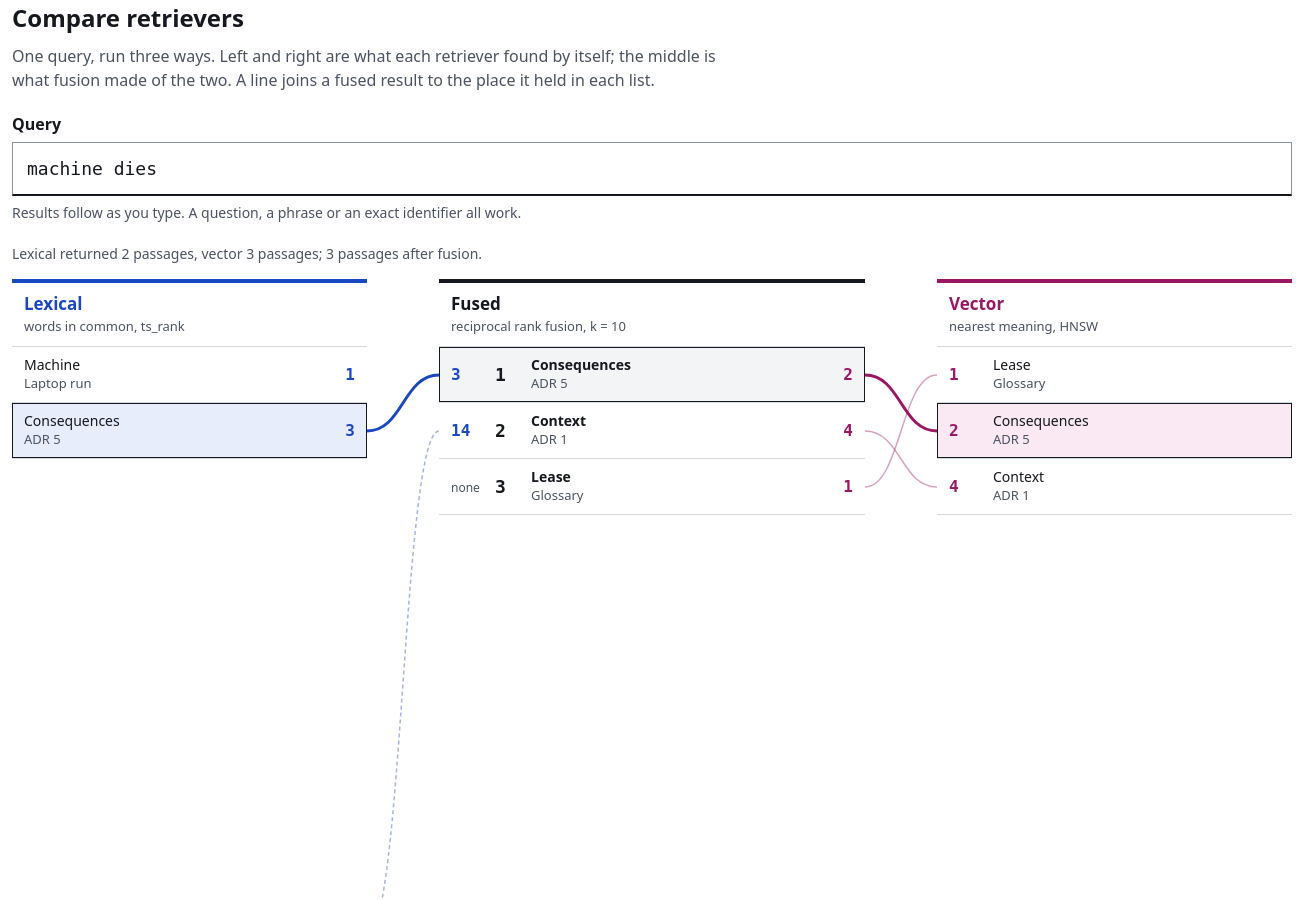
Test case: the comparison view › works the first fused result out, and any other passage when its row is pressed
Click the button "none 1 3 Lease Glossary".
click(551, 477)  # box 439,459 -> 865,514
(page scrolled)
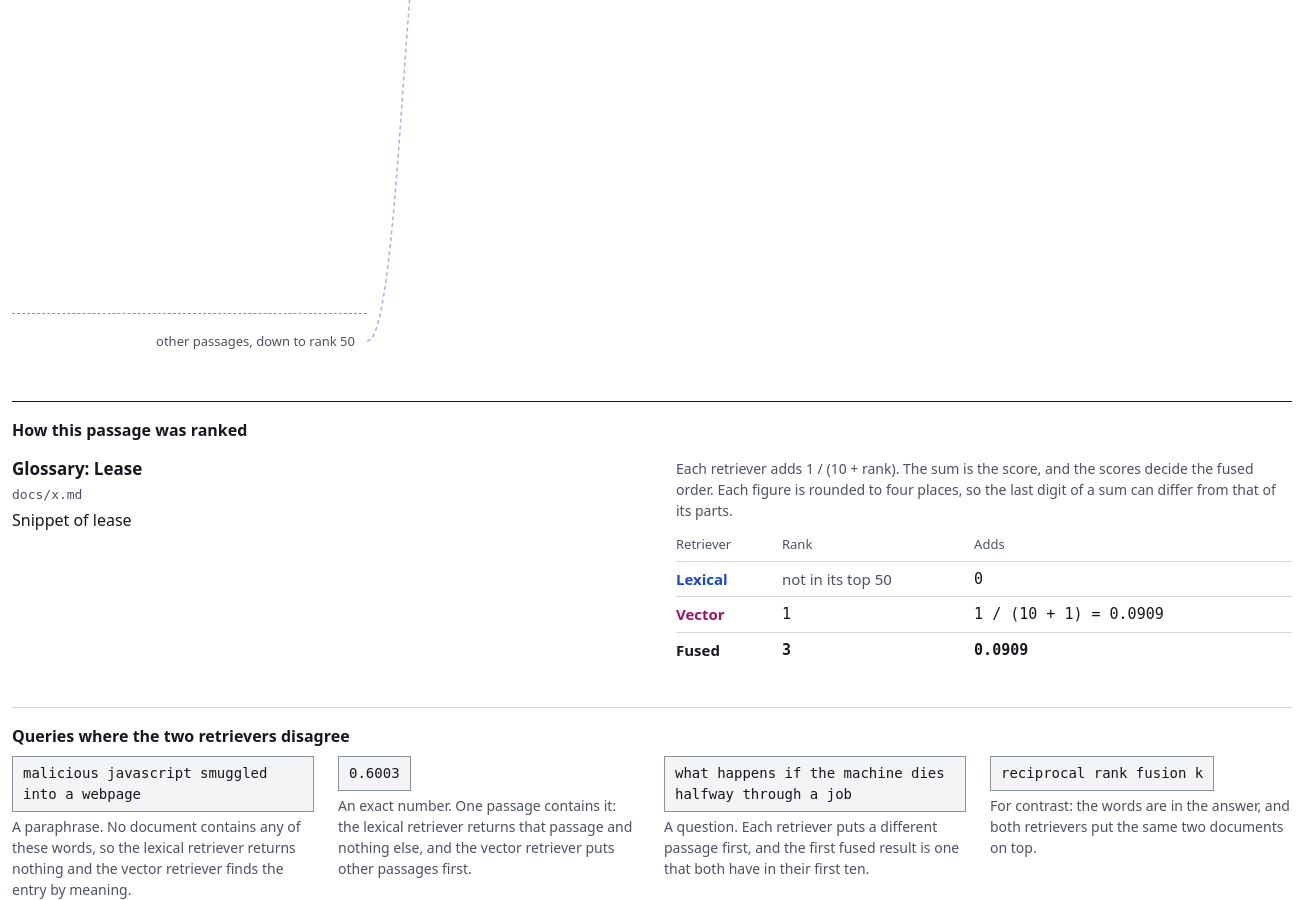
Check: the heading "Glossary: Lease" is shown, box 12,457 -> 142,480
Check: the row "Lexical not in its top 50 0" is shown, box 676,561 -> 1292,596
Check: the row "Vector 1 1 / (10 + 1) = 0.0909" is shown, box 676,596 -> 1292,632
